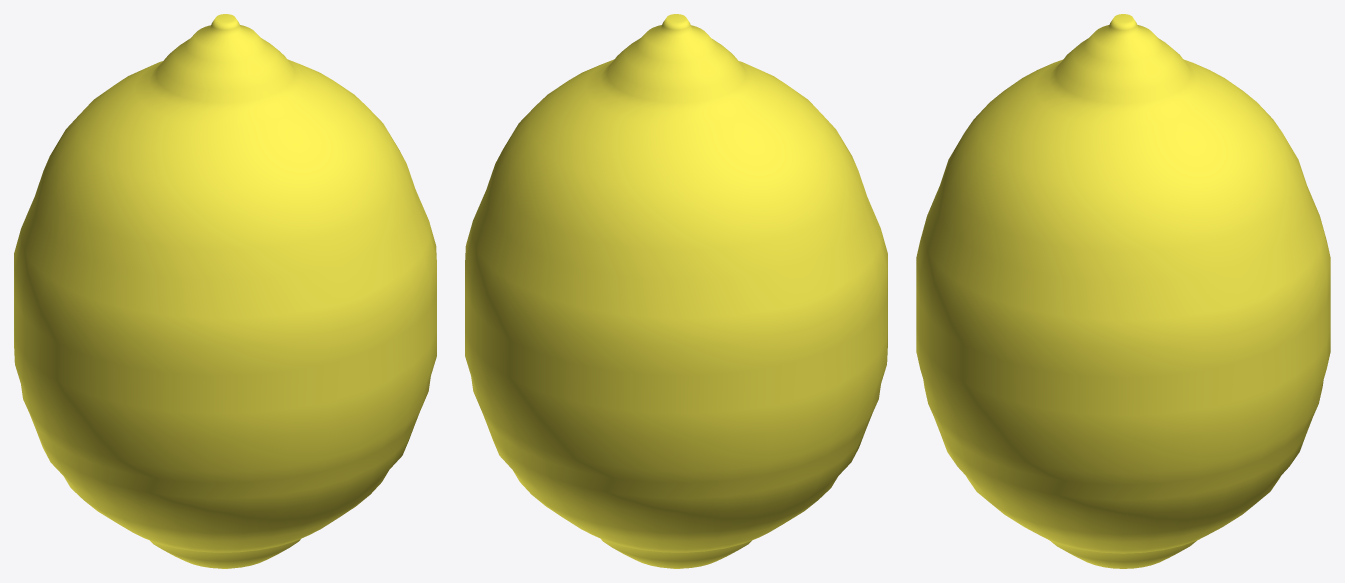
File: lemon.glb
3 views of the same model, side by side, from view 1: azimuth 30°, elevation 25°; view 2: azimuth 150°, elevation 25°; view 3: azimuth 270°, elevation 25° (orthographic).
Parts seen in each view (by area): view 1: Cylinder; view 2: Cylinder; view 3: Cylinder.
Boxes of the visible parts, x1,y1,x2,y2 form: Cylinder: [14, 14, 436, 568]; Cylinder: [465, 14, 887, 568]; Cylinder: [916, 14, 1330, 568].
Size of the model in its own units: 0.1482 by 0.2082 by 0.1438.
